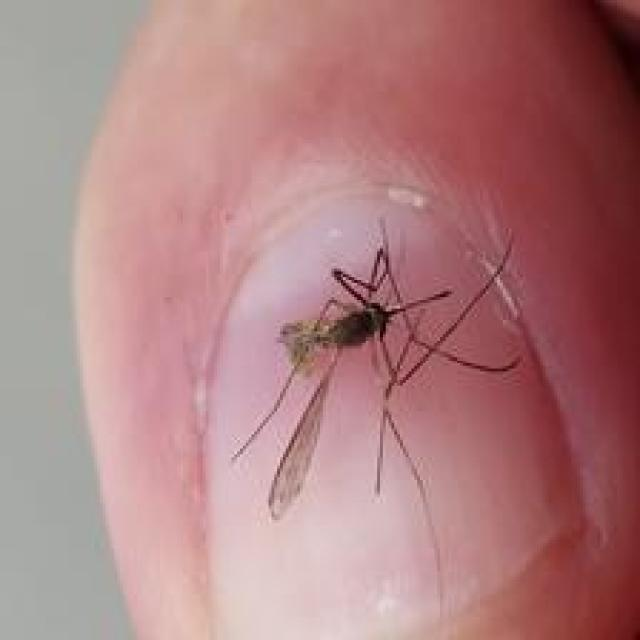Culex: (228, 217, 526, 626)
